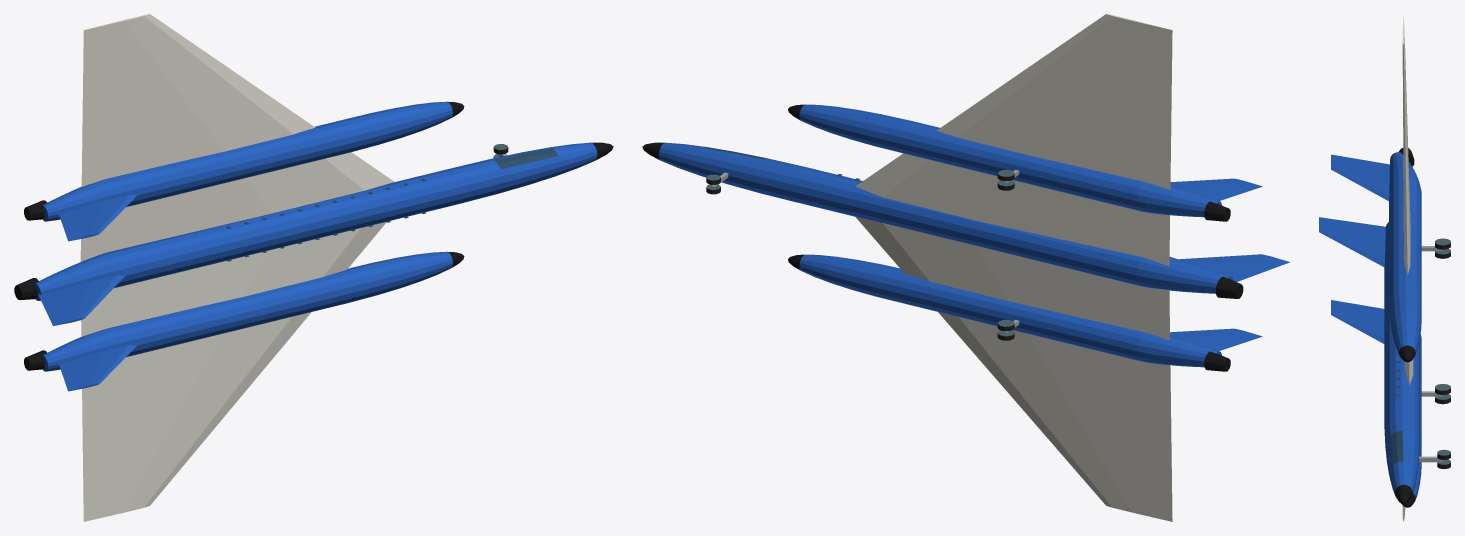
3 renders of one model, left to right at view 1: azimuth 30°, elevation 25°; view 2: azimuth 150°, elevation 25°; view 3: azimuth 270°, elevation 25°, orthographic. The views are drawn at different scales.
Visible parts, largest first — view 1: default_wing1, default_wing-1, default_fuselage, default_hull1, default_hull-1, default_fin1, default_fin-11, default_fin11; view 2: default_wing1, default_wing-1, default_fuselage, default_hull1, default_hull-1, default_fin1, default_fin11, default_fin-11; view 3: default_hull1, default_fuselage, default_fin1, default_fin11, default_wing1, default_fin-11, default_hull-1.
Part boxes in pixels (left/top/right/bottom): default_wing1: left=80, top=14, right=394, bottom=261; default_wing-1: left=81, top=222, right=386, bottom=521; default_fuselage: left=35, top=142, right=613, bottom=300; default_hull1: left=42, top=101, right=464, bottom=221; default_hull-1: left=42, top=251, right=464, bottom=371; default_fin1: left=38, top=275, right=125, bottom=325; default_fin-11: left=59, top=345, right=136, bottom=391; default_fin11: left=59, top=195, right=136, bottom=241; default_wing1: left=855, top=14, right=1172, bottom=266; default_wing-1: left=856, top=217, right=1172, bottom=521; default_fuselage: left=642, top=142, right=1233, bottom=293; default_hull1: left=788, top=104, right=1221, bottom=217; default_hull-1: left=788, top=254, right=1221, bottom=367; default_fin1: left=1179, top=254, right=1289, bottom=281; default_fin11: left=1170, top=178, right=1262, bottom=200; default_fin-11: left=1170, top=328, right=1262, bottom=350; default_hull1: left=1389, top=152, right=1421, bottom=362; default_fuselage: left=1384, top=222, right=1419, bottom=504; default_fin1: left=1319, top=217, right=1385, bottom=266; default_fin11: left=1331, top=154, right=1389, bottom=201; default_wing1: left=1402, top=16, right=1413, bottom=385; default_fin-11: left=1331, top=300, right=1384, bottom=343; default_hull-1: left=1401, top=334, right=1421, bottom=507.
Size of the model in its own units: 22.75 by 17.7 by 4.44.
